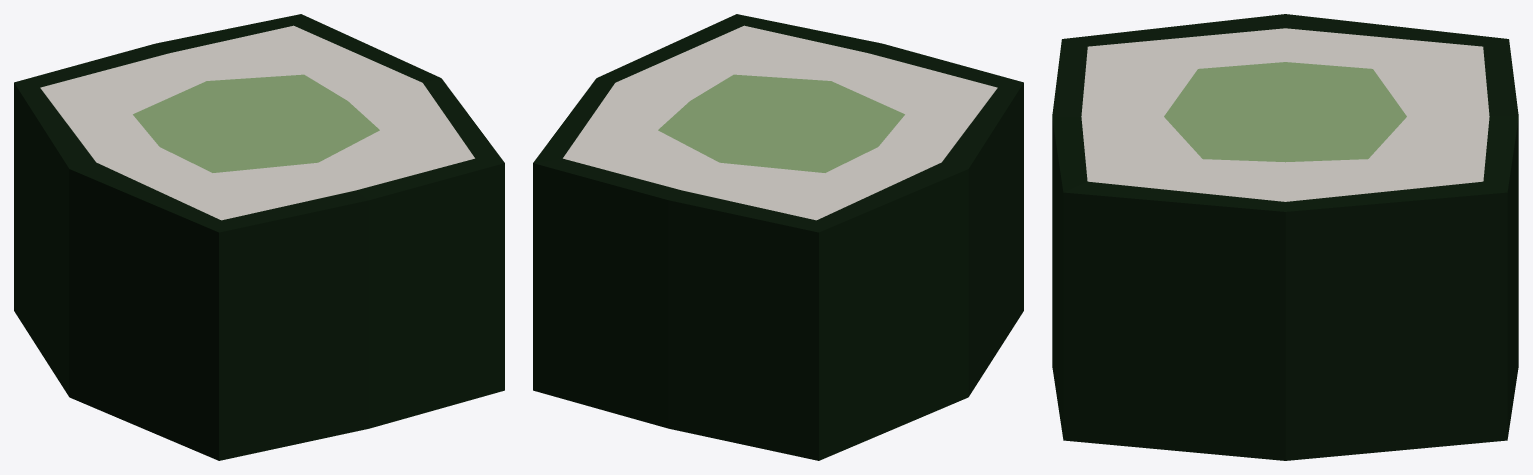
Rendered from hossomakiCocumberSlim.fbx.
3 renders of one model, left to right at view 1: azimuth 30°, elevation 25°; view 2: azimuth 150°, elevation 25°; view 3: azimuth 270°, elevation 25°, orthographic. The views are drawn at different scales.
Parts seen in each view (by area): view 1: hossomakiCocumberSlim; view 2: hossomakiCocumberSlim; view 3: hossomakiCocumberSlim.
Boxes of the visible parts, <box> form: hossomakiCocumberSlim: <box>14,14,504,460</box>; hossomakiCocumberSlim: <box>533,14,1023,460</box>; hossomakiCocumberSlim: <box>1052,14,1518,460</box>.
Size of the model in its own units: 3.74 by 2.19 by 3.72.
Materials: 1 (1 with a texture image).
